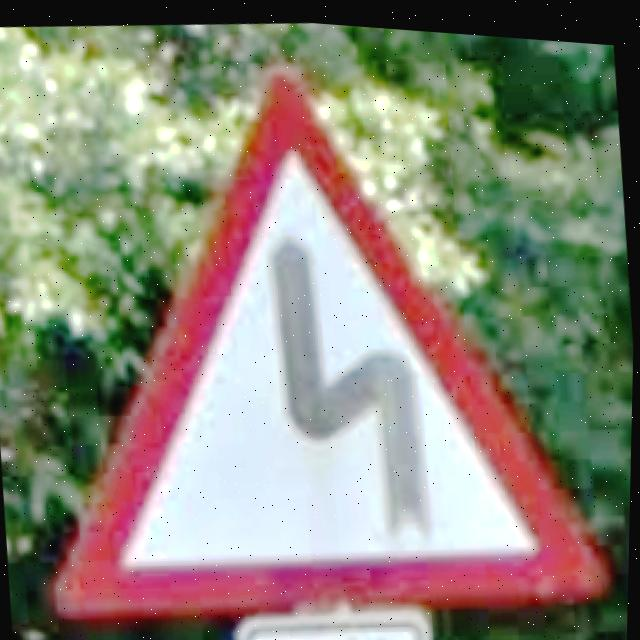doublebendleft: (61, 63, 613, 615)
